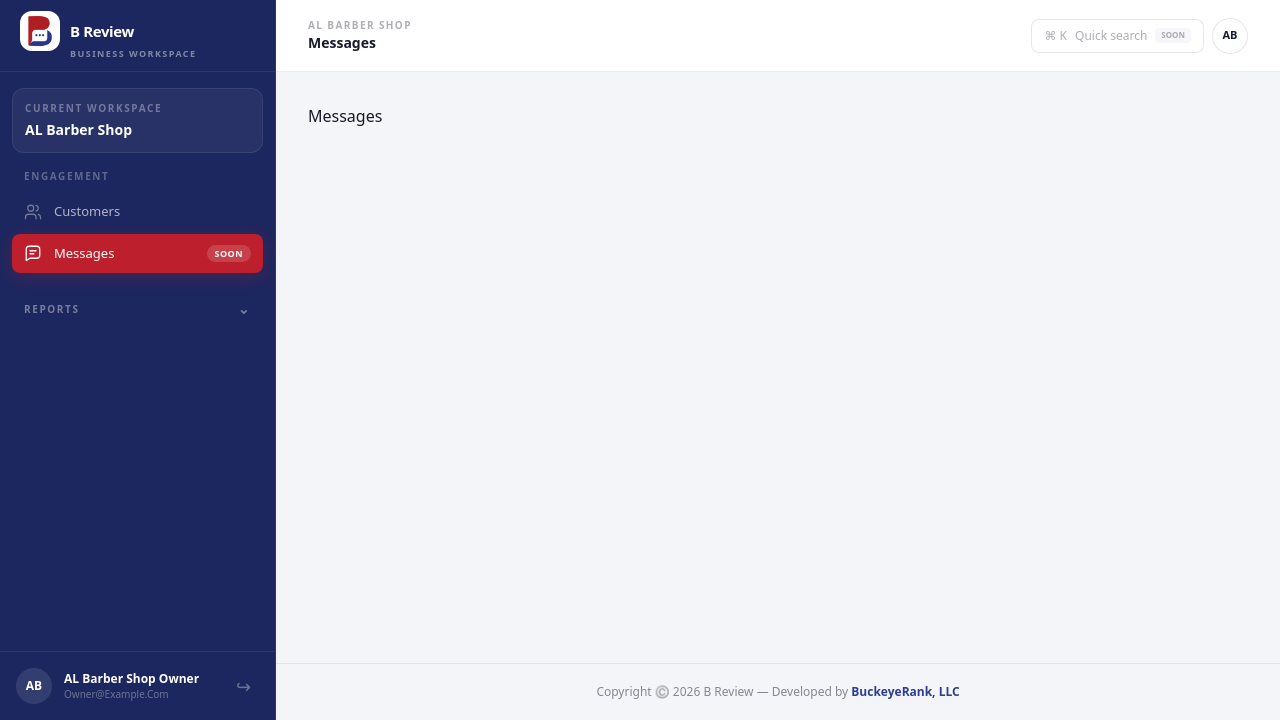
Test: workspace shell › renders grouped navigation, status badges, and account controls
The width and height of the screenshot is (1280, 720).
Expected: the navigation bar named "Customer navigation" is shown, [12, 169, 263, 325]
Expected: the text "AL Barber Shop" is shown 2 times, [25, 120, 132, 139]; [308, 18, 412, 33]
Click the button "Reports ⌄": (138, 309) [12, 293, 263, 325]
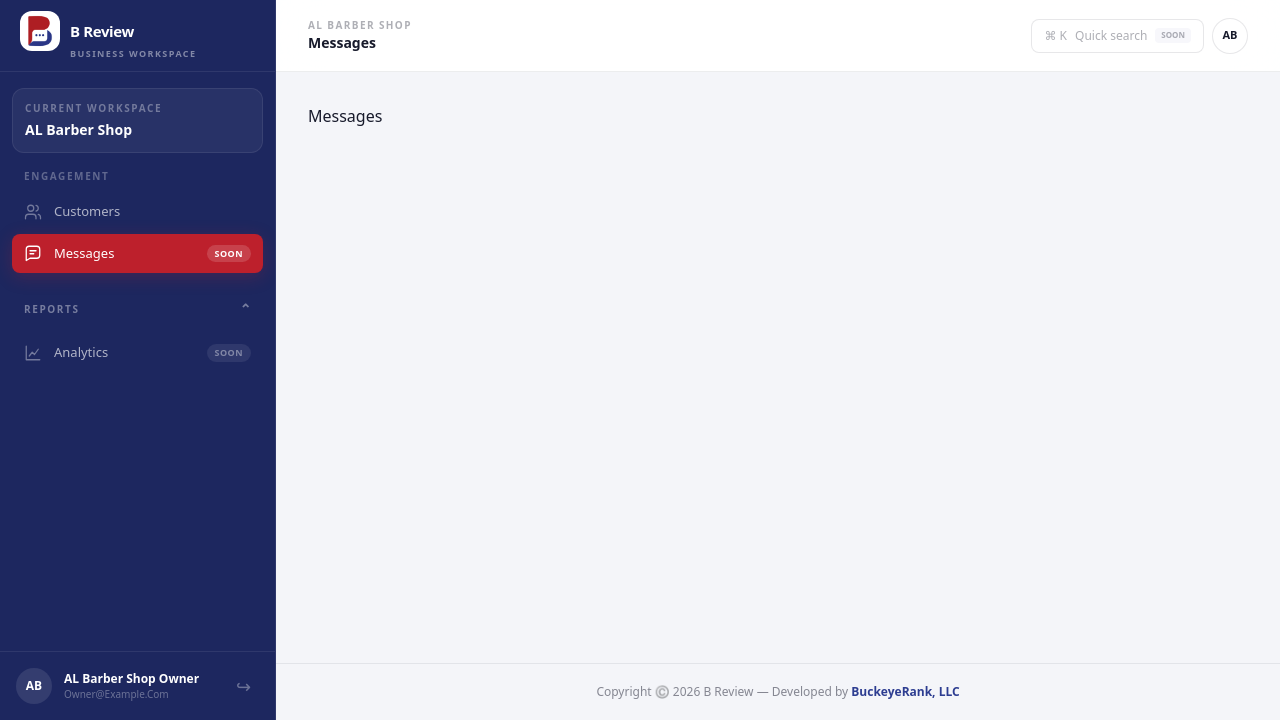
Expected: the link "Analytics Soon" is shown, [24, 343, 251, 362]
